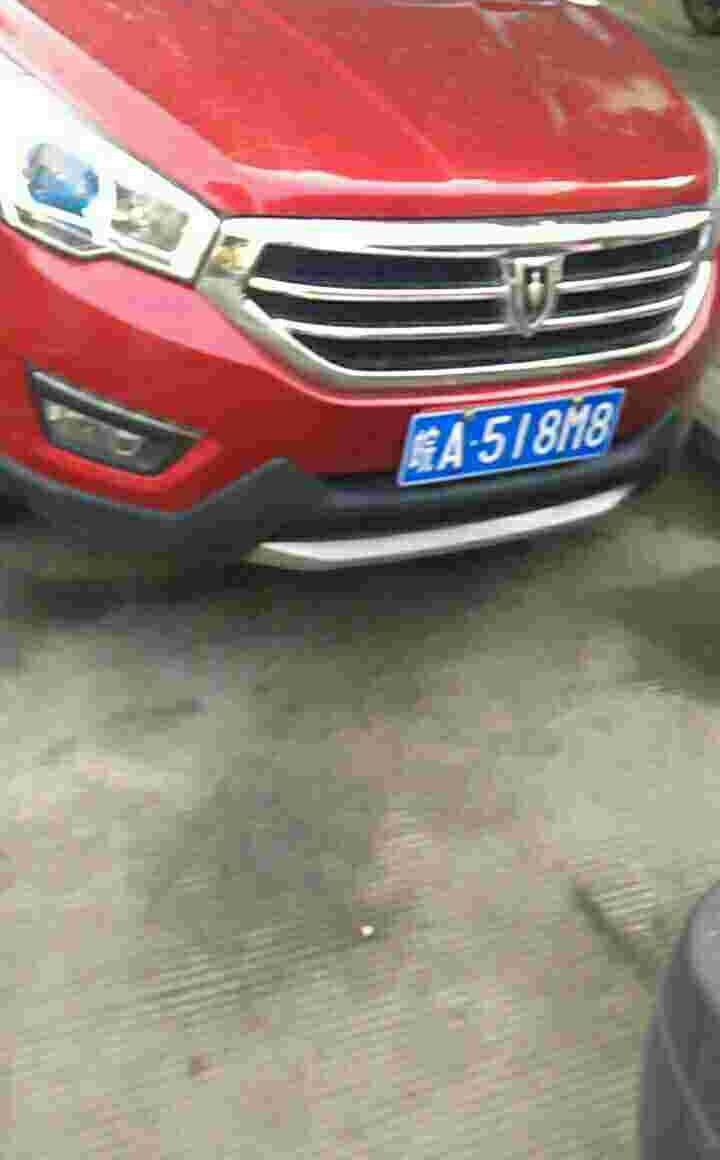plate: (403, 385, 631, 489)
